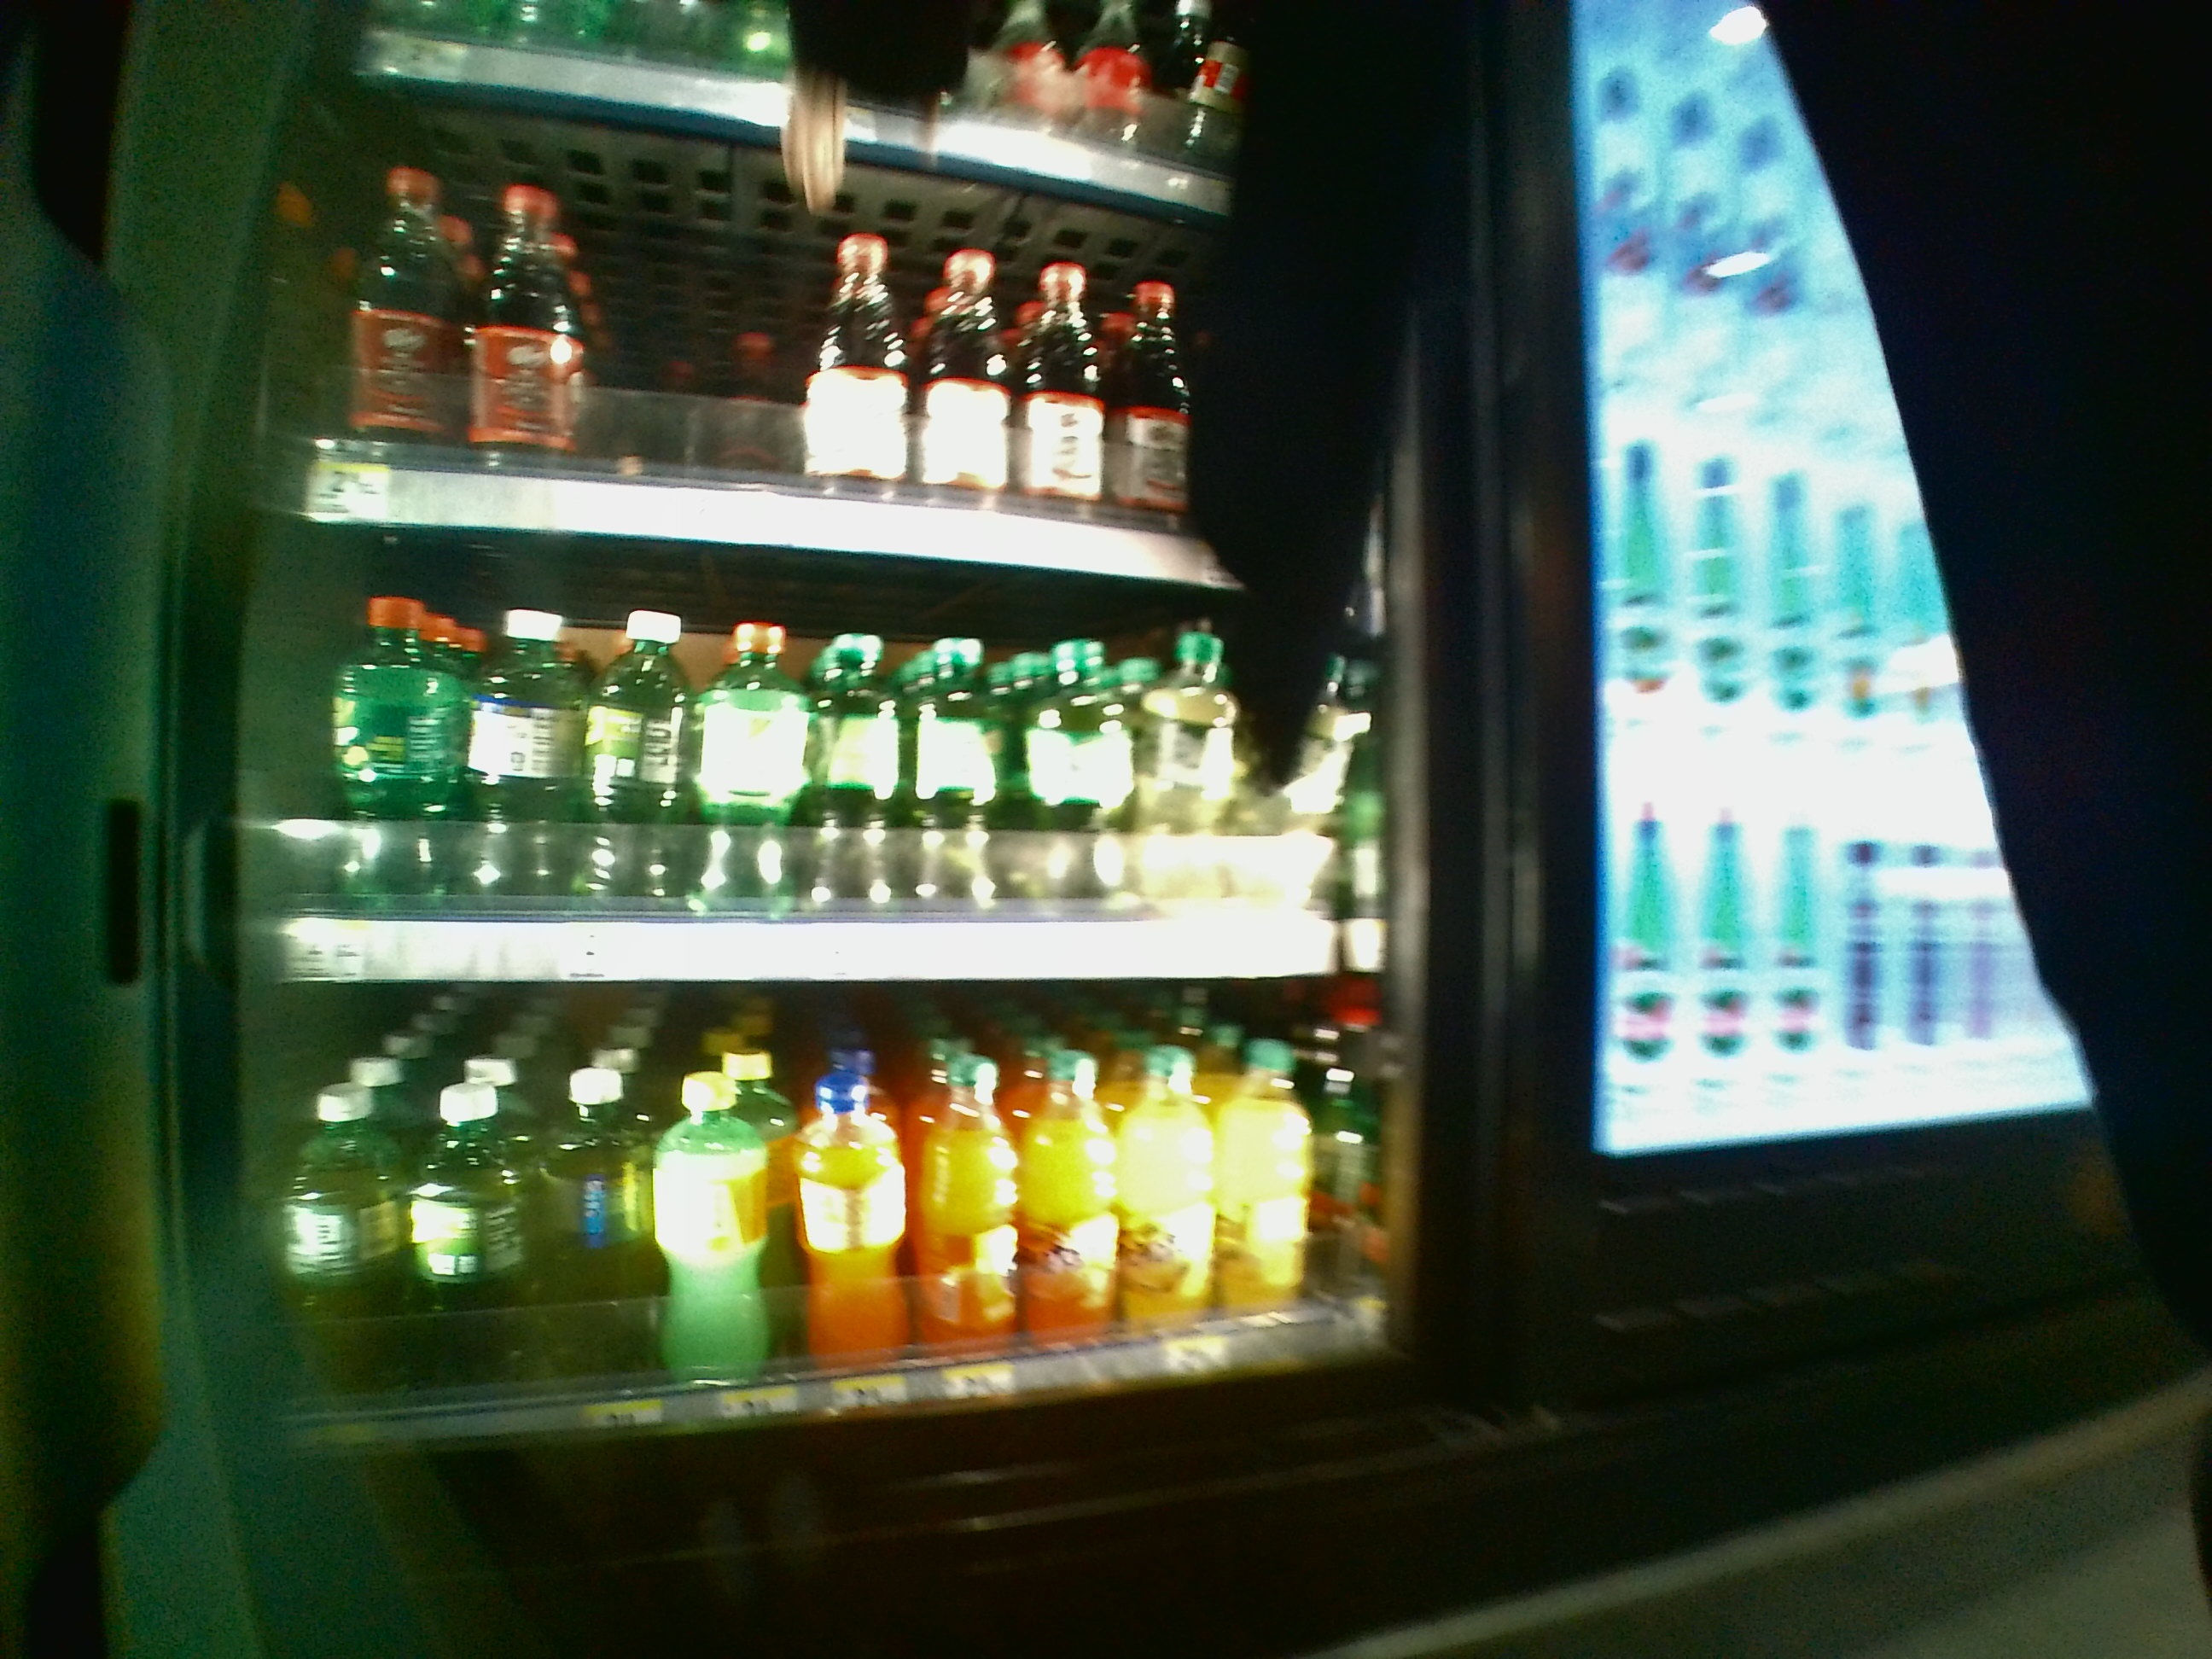shelf: (263, 985, 1418, 1441)
